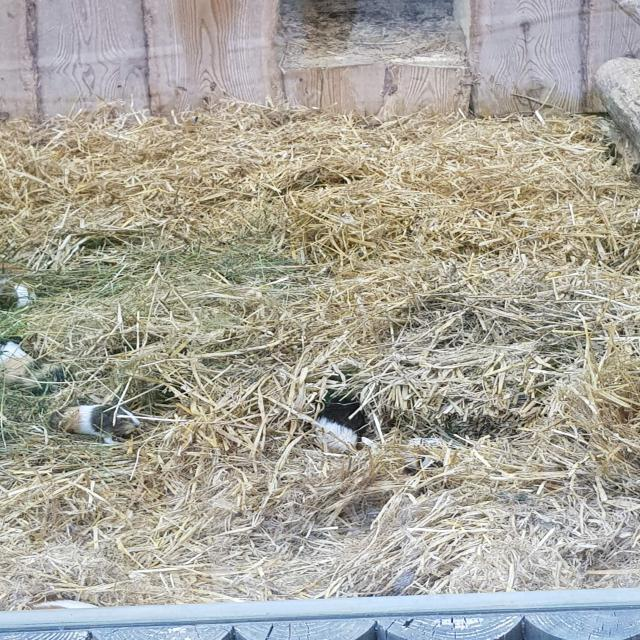guinea pig: (42, 401, 148, 449), (314, 363, 362, 452), (0, 332, 66, 392)
